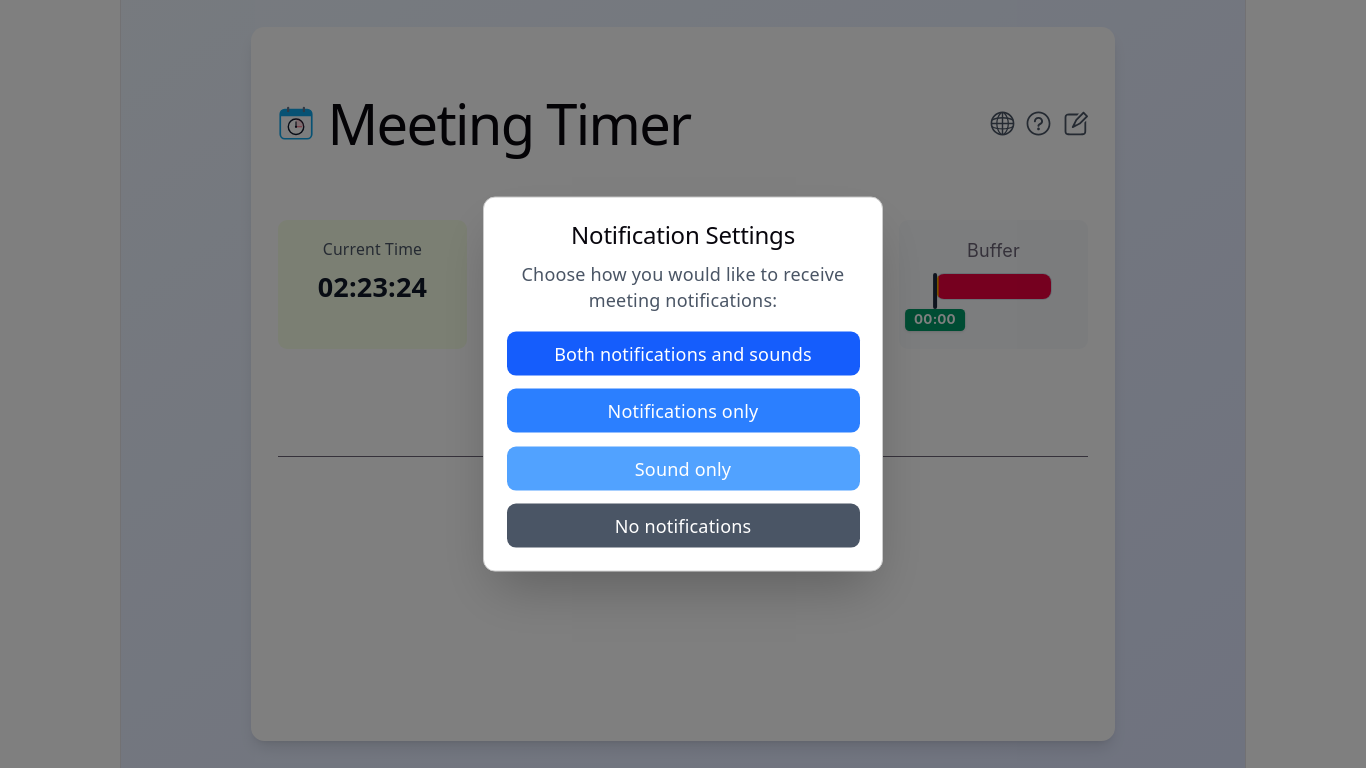
Test: TimerScreen Component › should close notification modal when selection is made
Step 1. Click the button "Sound only" → (683, 468), box [506,446,860,490]
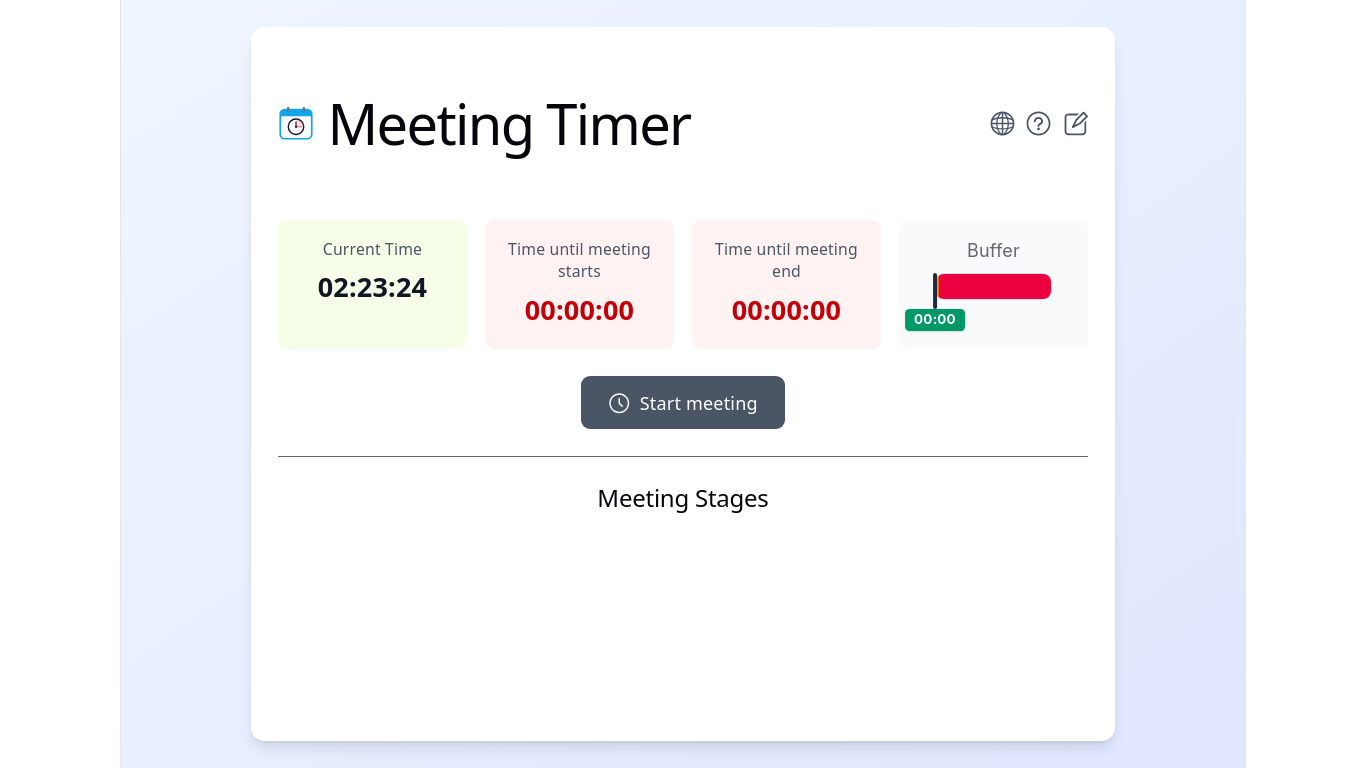
Now the heading "Notification Settings" is gone
